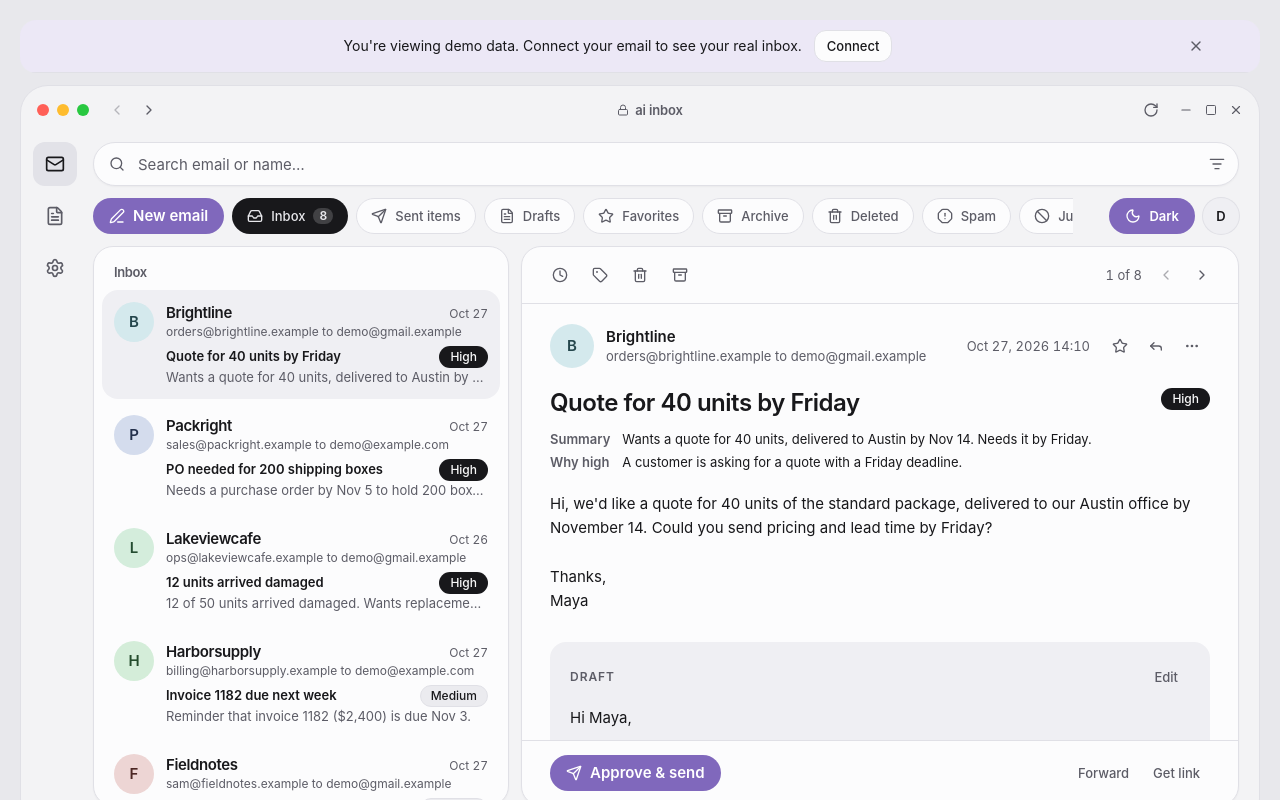
Test case: app › approves a draft only after an explicit click
The width and height of the screenshot is (1280, 800).
What coordinates should you click on to do the following:
click the button "Approve & send"
I would click on:
 (635, 773)
Its box is [550, 755, 721, 791].
Wait 10000 ms
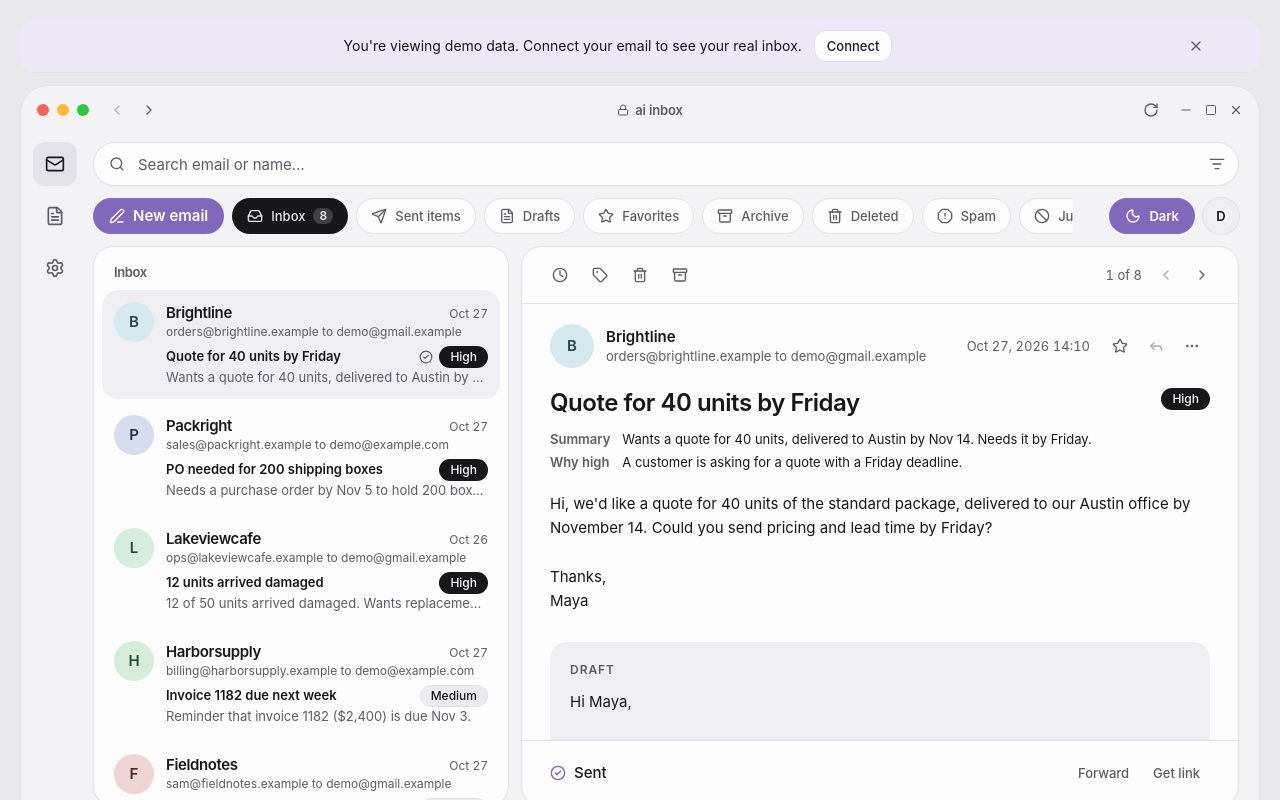
Result: the text "Sent" is shown at [550, 763, 607, 782]
Result: the button "Edit" is gone
